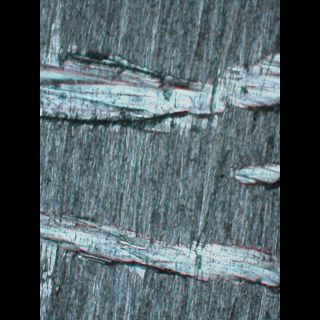d: (40, 200, 279, 297), (40, 50, 280, 127), (225, 155, 280, 195)
